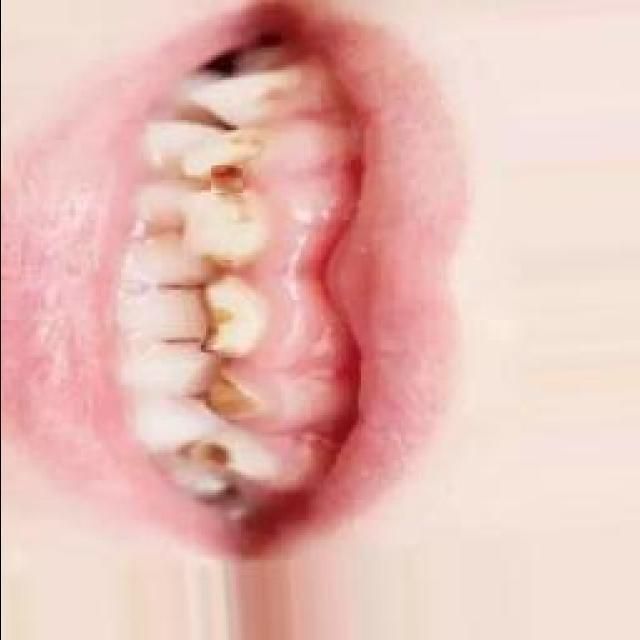decay: (203, 365, 253, 417), (177, 435, 235, 477), (195, 293, 237, 348), (210, 165, 242, 193)
